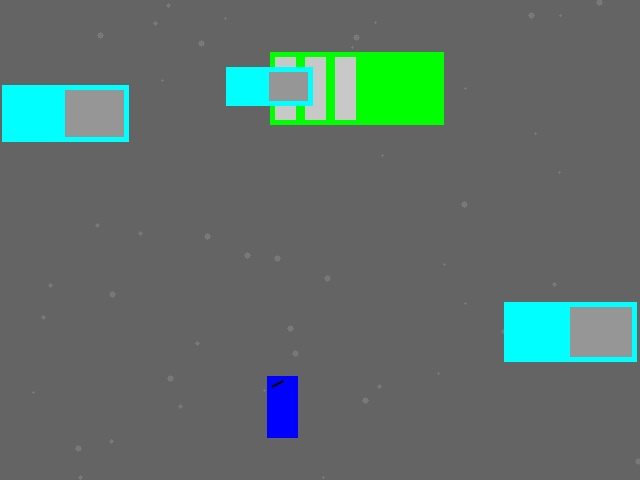bus: (270, 52, 443, 124)
motorcycle: (267, 376, 297, 437)
truck: (504, 302, 636, 361), (2, 85, 128, 141), (226, 67, 312, 105)
